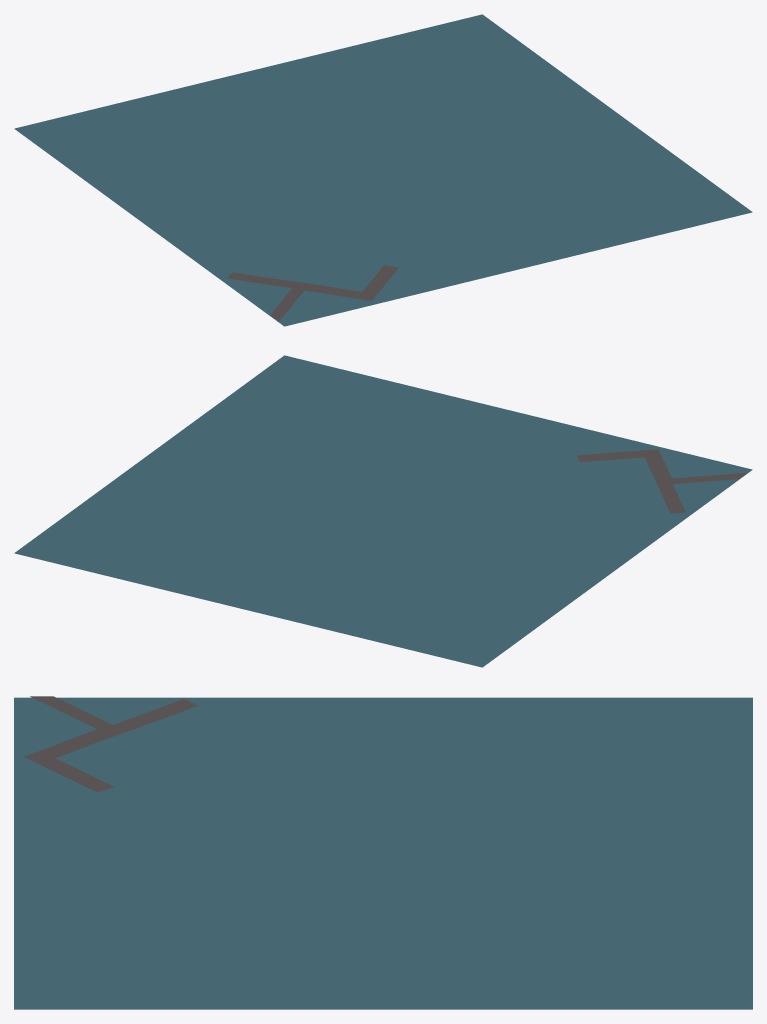
The picture shows the model from 3 angles, top to bottom: view 1: azimuth 30°, elevation 25°; view 2: azimuth 150°, elevation 25°; view 3: azimuth 270°, elevation 25°; orthographic projection. The views are drawn at different scales.
Parts seen in each view (by area): view 1: c_p04_m07; view 2: c_p04_m07; view 3: c_p04_m07.
Boxes of the visible parts, x1,y1,x2,y2 form: c_p04_m07: (14, 14, 752, 326); c_p04_m07: (14, 355, 752, 667); c_p04_m07: (14, 696, 752, 1009).
Bounding box in the file's own units: 128 × 0.4158 × 128.
